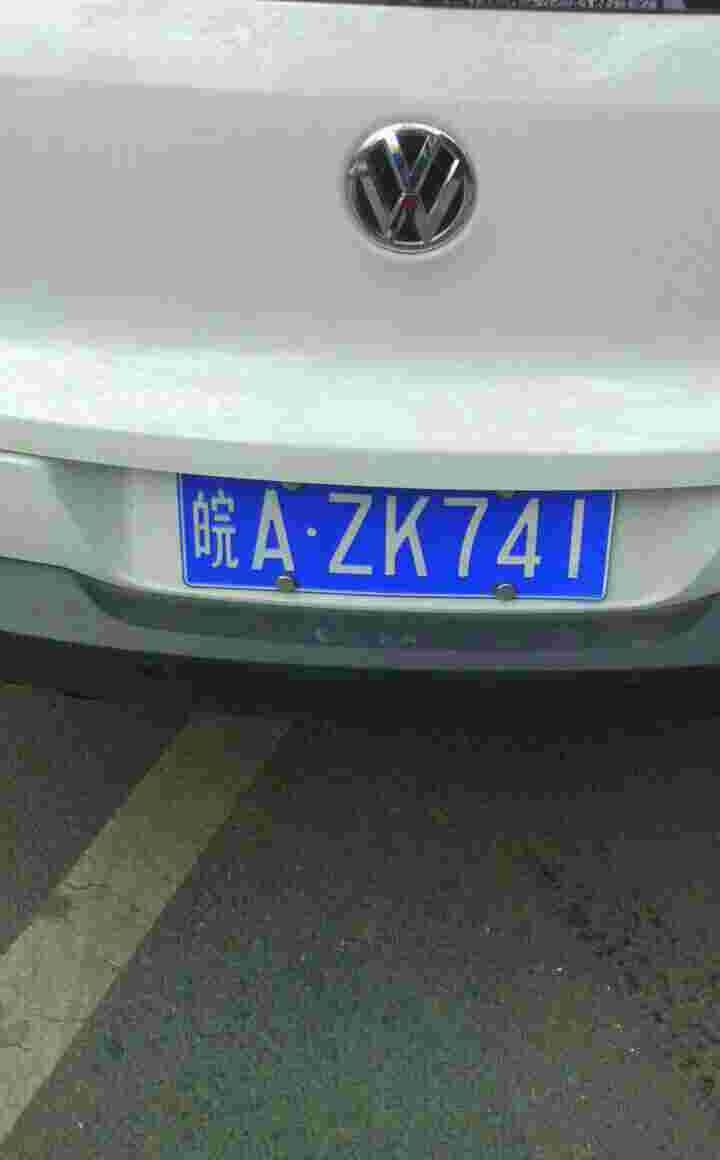license_plate: (195, 474, 622, 605)
